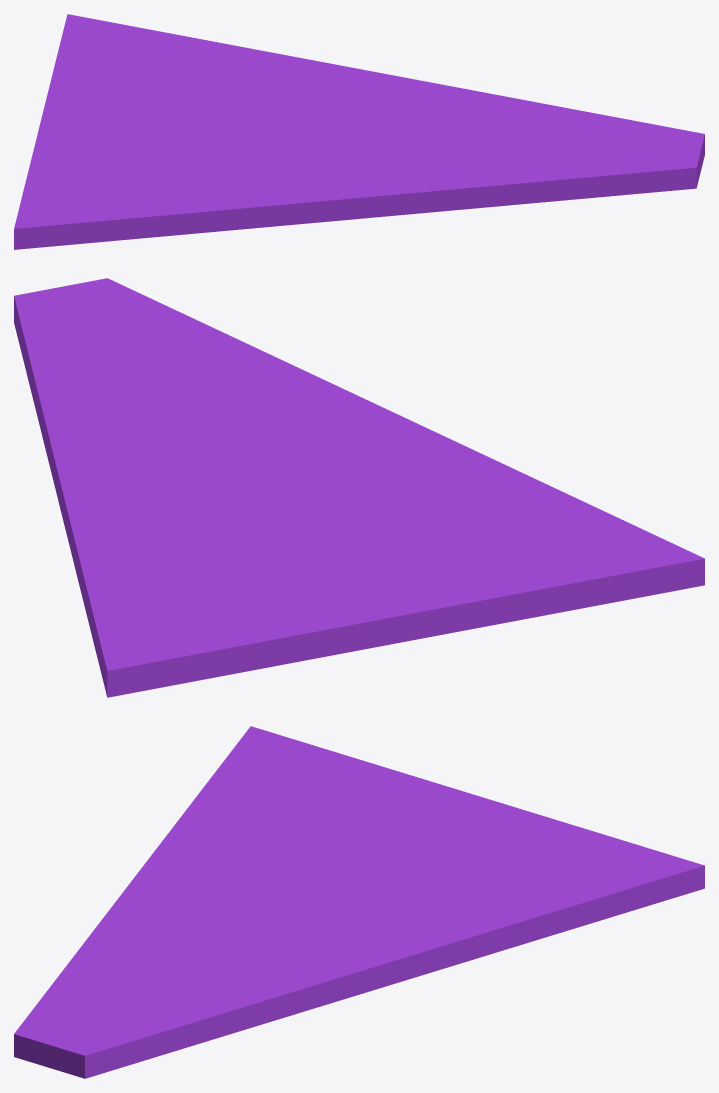
File: StairsStep_51_chunks.fbx
3 views of the same model, one above another, from view 1: azimuth 30°, elevation 25°; view 2: azimuth 150°, elevation 25°; view 3: azimuth 270°, elevation 25° (orthographic). The views are drawn at different scales.
Visible parts, largest first — view 1: StairsStep_51_3, StairsStep_51_2, StairsStep_51_0, StairsStep_51_1; view 2: StairsStep_51_3, StairsStep_51_2, StairsStep_51_0, StairsStep_51_1; view 3: StairsStep_51_3, StairsStep_51_2, StairsStep_51_0, StairsStep_51_1.
Boxes of the visible parts, x1,y1,x2,y2 form: StairsStep_51_3: (27, 14, 378, 175); StairsStep_51_2: (349, 114, 704, 217); StairsStep_51_0: (14, 146, 370, 249); StairsStep_51_1: (289, 56, 600, 132); StairsStep_51_3: (75, 449, 556, 697); StairsStep_51_2: (14, 278, 411, 450); StairsStep_51_0: (268, 421, 704, 622); StairsStep_51_1: (26, 356, 218, 584); StairsStep_51_3: (248, 760, 704, 945); StairsStep_51_2: (14, 877, 266, 1078); StairsStep_51_0: (135, 726, 362, 909); StairsStep_51_1: (166, 925, 518, 1053).
Bounding box in the file's own units: 552 × 17.94 × 488.
